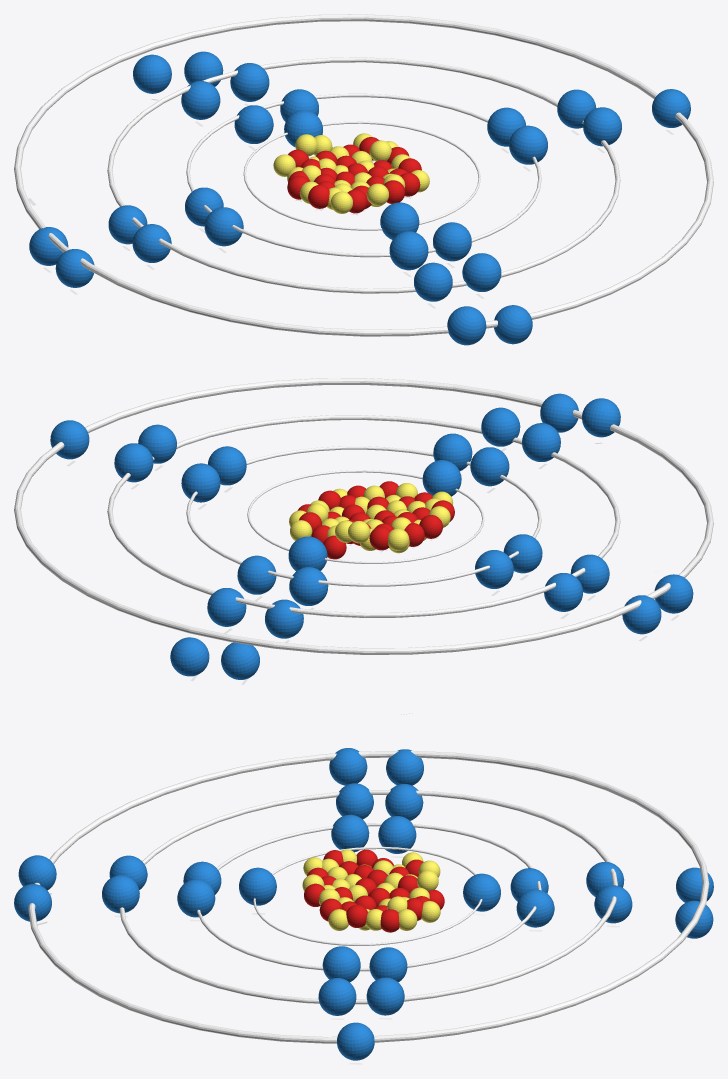
3 views of the same model, one above another, from view 1: azimuth 30°, elevation 25°; view 2: azimuth 150°, elevation 25°; view 3: azimuth 270°, elevation 25° (orthographic). The views are drawn at different scales.
Parts seen in each view (by area): view 1: Torus.004, Torus.003, Torus.002, Torus.001, g.006, g.022, g.007, g.021, g.014, g.015, g.008, g.005 (+17 smaller); view 2: Torus.004, Torus.003, Torus.002, Torus.001, g.024, g.015, g.006, g.014, g.009, g.004, g.012, g.008 (+17 smaller); view 3: Torus.004, Torus.003, Torus.002, Torus.001, g.012, g.023, g.013, g.001, g.007, g, g.015, g.002 (+17 smaller).
Part boxes in pixels (bbox=[...]): Torus.004: bbox=[14, 14, 713, 336]; Torus.003: bbox=[107, 57, 620, 293]; Torus.002: bbox=[186, 93, 541, 257]; Torus.001: bbox=[243, 121, 480, 230]; g.006: bbox=[389, 231, 428, 270]; g.022: bbox=[447, 306, 486, 345]; g.007: bbox=[433, 222, 471, 261]; g.021: bbox=[133, 54, 171, 93]; g.014: bbox=[414, 262, 452, 301]; g.015: bbox=[462, 253, 501, 291]; g.008: bbox=[234, 105, 273, 143]; g.005: bbox=[509, 125, 547, 164]; Torus.004: bbox=[14, 378, 713, 654]; Torus.003: bbox=[107, 415, 620, 617]; Torus.002: bbox=[186, 446, 541, 586]; Torus.001: bbox=[247, 470, 484, 563]; g.024: bbox=[170, 637, 209, 676]; g.015: bbox=[481, 407, 520, 446]; g.006: bbox=[470, 447, 509, 486]; g.014: bbox=[522, 423, 560, 461]; g.009: bbox=[237, 555, 276, 594]; g.004: bbox=[181, 463, 220, 502]; g.012: bbox=[114, 443, 153, 482]; g.008: bbox=[289, 567, 328, 605]; Torus.004: bbox=[28, 750, 709, 1043]; Torus.003: bbox=[119, 790, 617, 1004]; Torus.002: bbox=[197, 823, 541, 971]; Torus.001: bbox=[253, 846, 482, 945]; g.012: bbox=[366, 977, 404, 1015]; g.023: bbox=[337, 1022, 374, 1060]; g.013: bbox=[318, 978, 356, 1015]; g.001: bbox=[239, 867, 276, 905]; g.007: bbox=[177, 879, 215, 917]; g: bbox=[463, 873, 500, 911]; g.015: bbox=[102, 875, 139, 913]; g.002: bbox=[378, 816, 416, 853].
Size of the model in its own units: 8.71 by 1.06 by 8.56.
